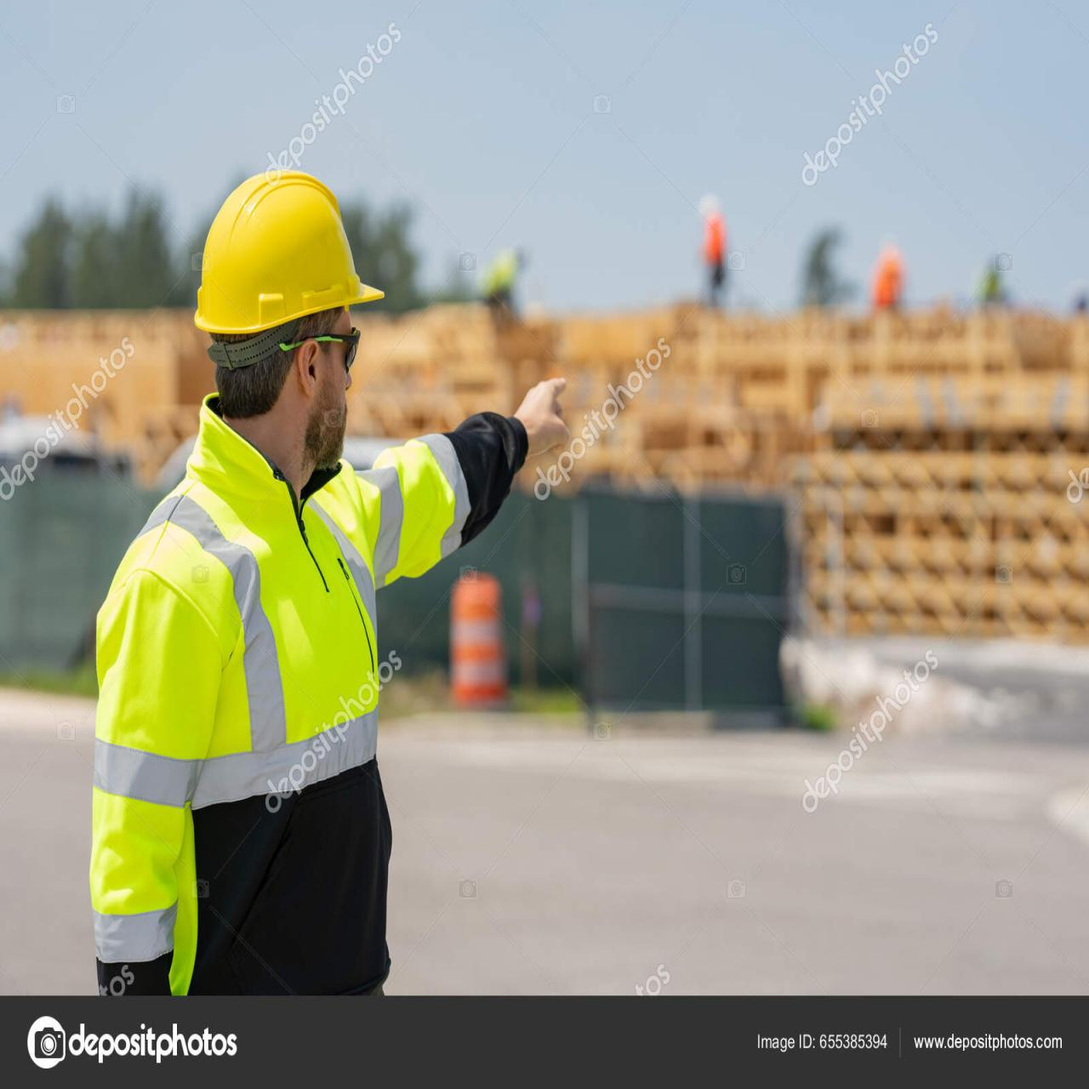NO_Safety_Vest: (102, 420, 422, 995)
Person: (44, 114, 615, 1005)
